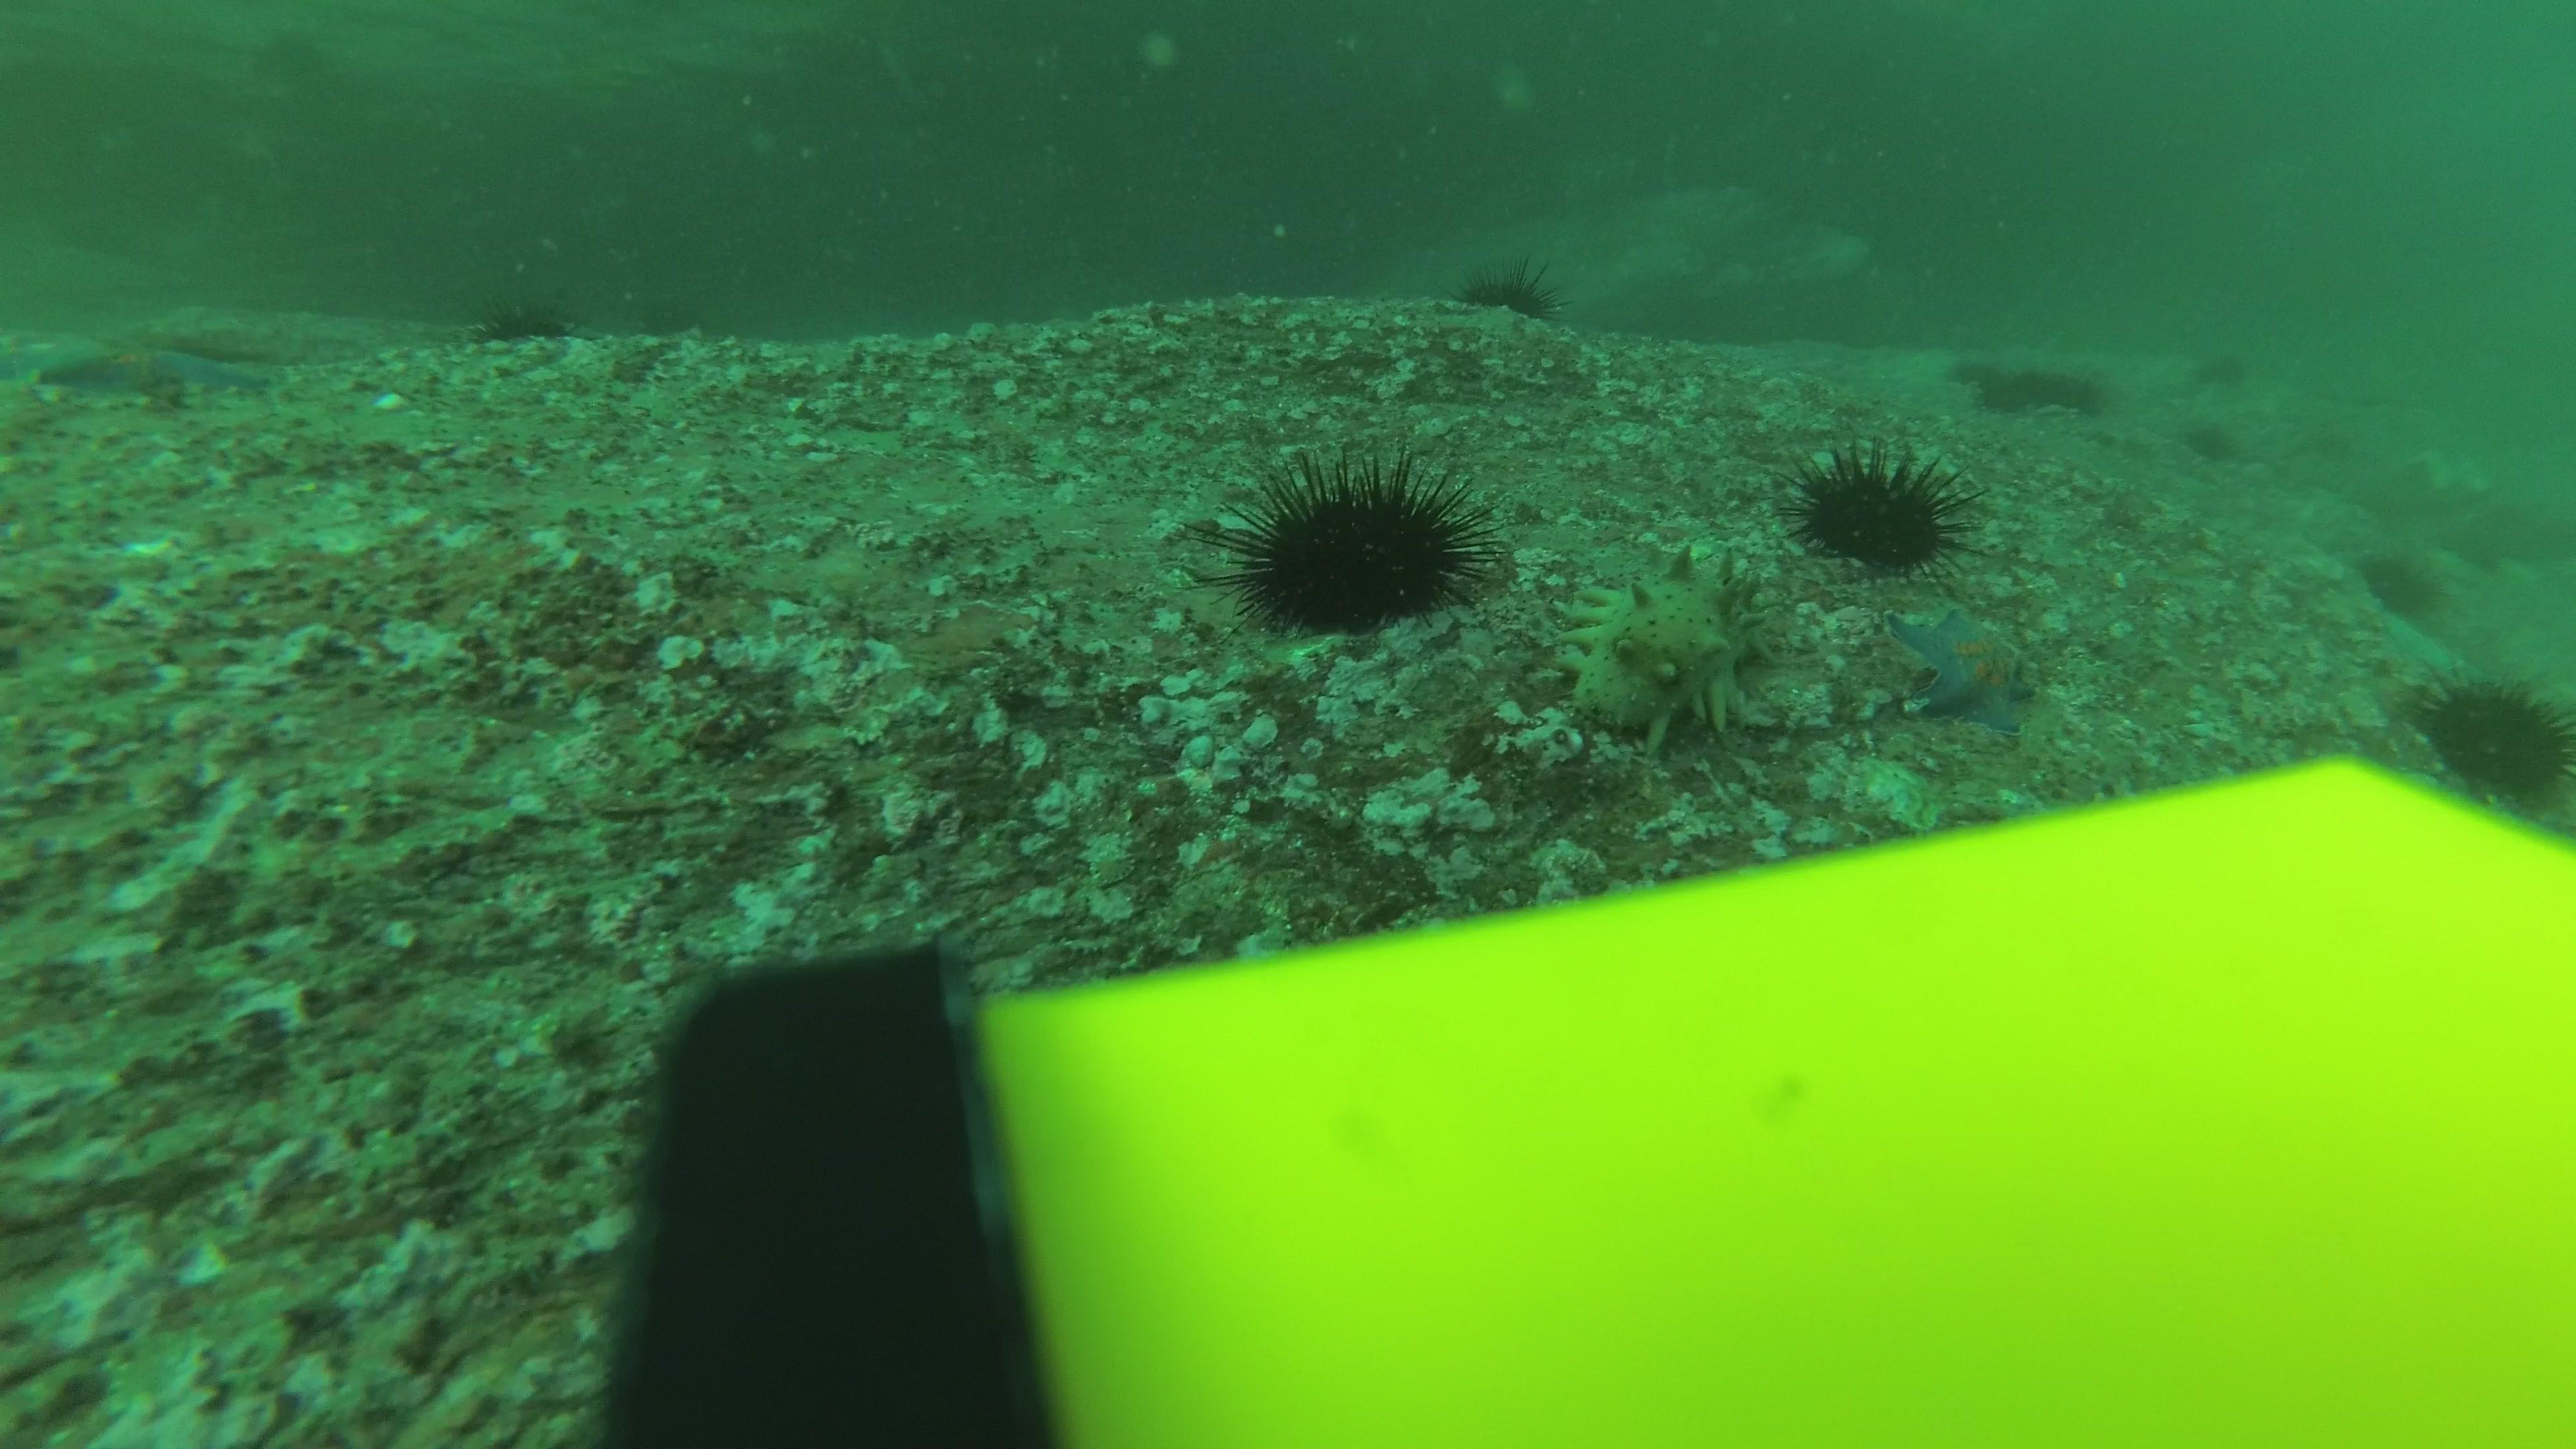urchin: (1198, 451, 1488, 630), (2397, 665, 2572, 796), (1778, 437, 1957, 552), (1960, 349, 2105, 416), (1467, 255, 1576, 313), (458, 303, 580, 347), (2185, 421, 2235, 469)
